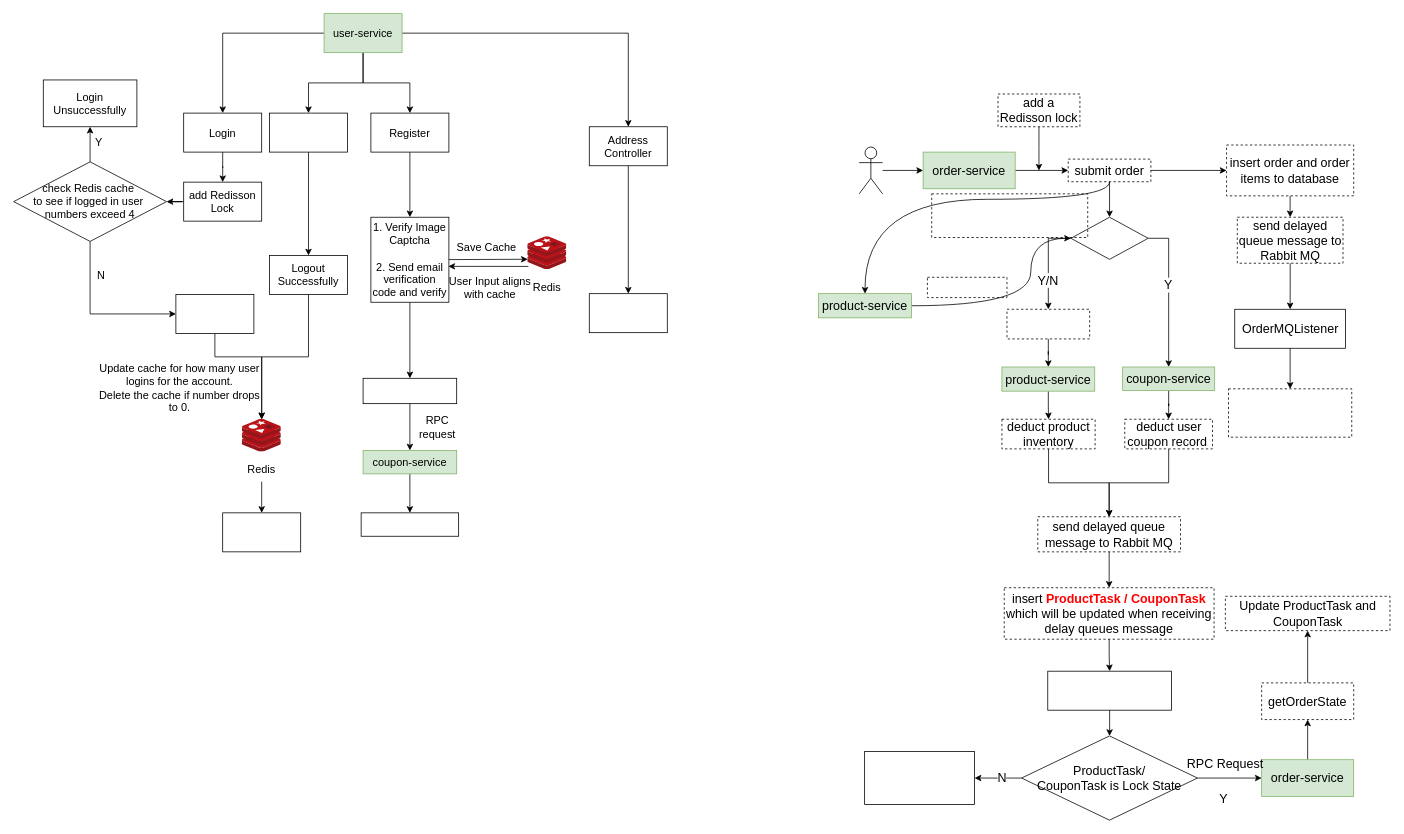
The diagram is 1404 pixels wide and 834 high, and some of its shapes have lost their labels. Here are the shapes that lost their labels. From the top down, the centre of each, then its label:
At [308,132]: "Logout".
At [870,170]: "User / Cafe".
At [1009,215]: "send RPC request to verify order items and price".
At [1109,237]: "if used coupon".
At [967,287]: "verification success".
At [214,313]: "Login Successfully".
At [628,313]: "address related functionalities".
At [1048,323]: "send RPC request".
At [409,391]: "Register Successfully".
At [1290,412]: "update order status according to final payment status".
At [261,532]: "Release Redisson Lock for Login".
At [409,524]: "issue new user coupon".
At [1109,690]: "ProductMQListener / CouponMQListener".
At [919,778]: "Release product inventory and user coupon record".
